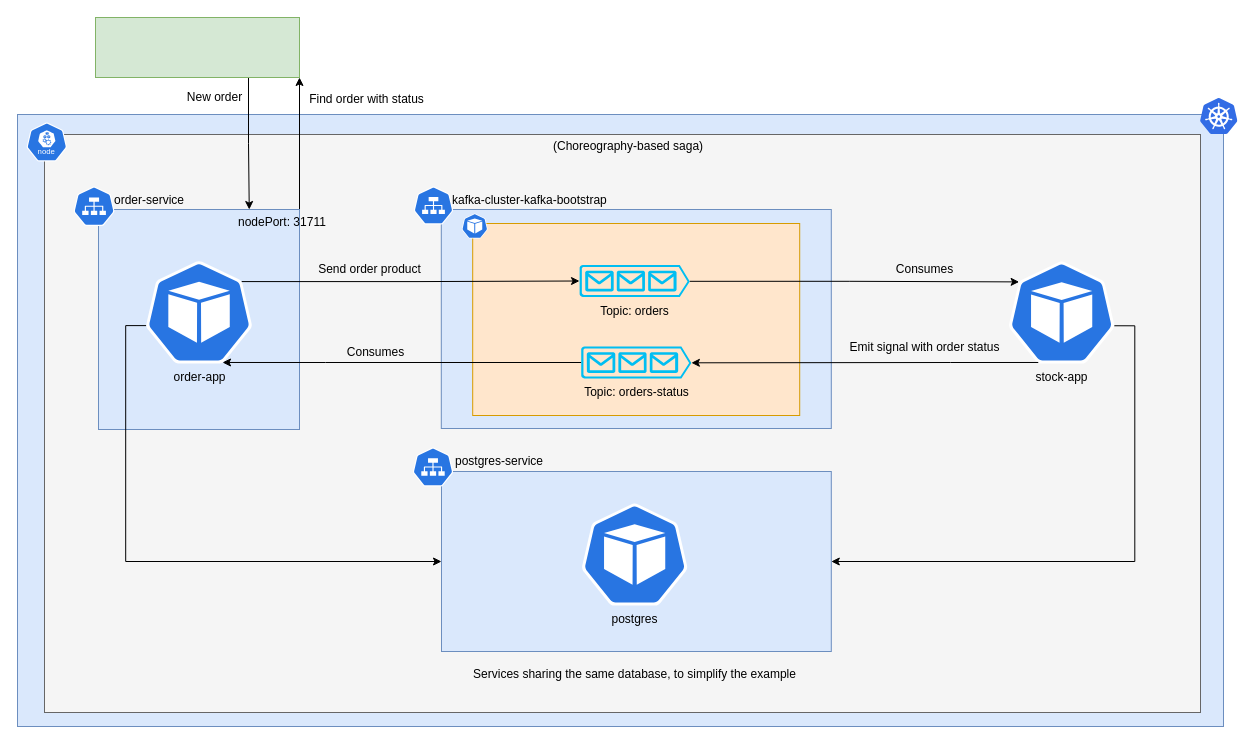
This 1255x744 diagram has some shape labels left out. Each missing label, with the centre of its shape:
external client: the point at 197,47
kafka: the point at 474,225
